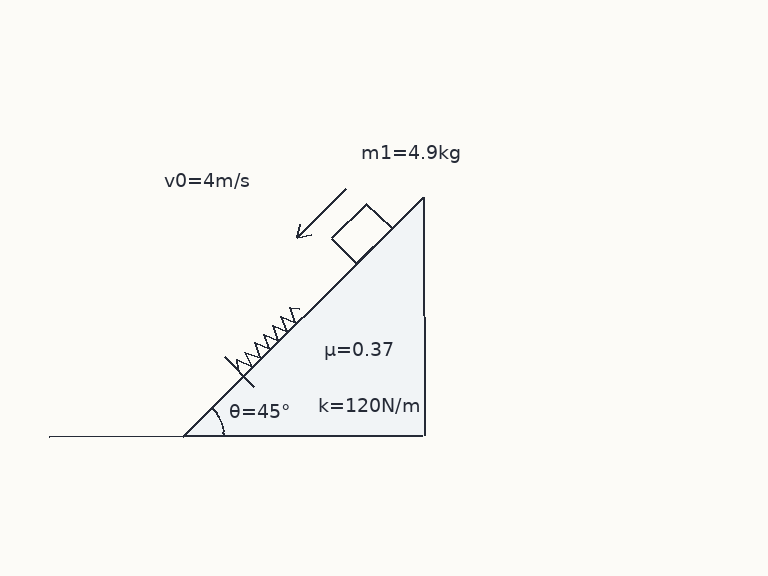block: (330, 202, 393, 265)
ramp: (182, 195, 425, 438)
spring: (235, 305, 302, 372)
